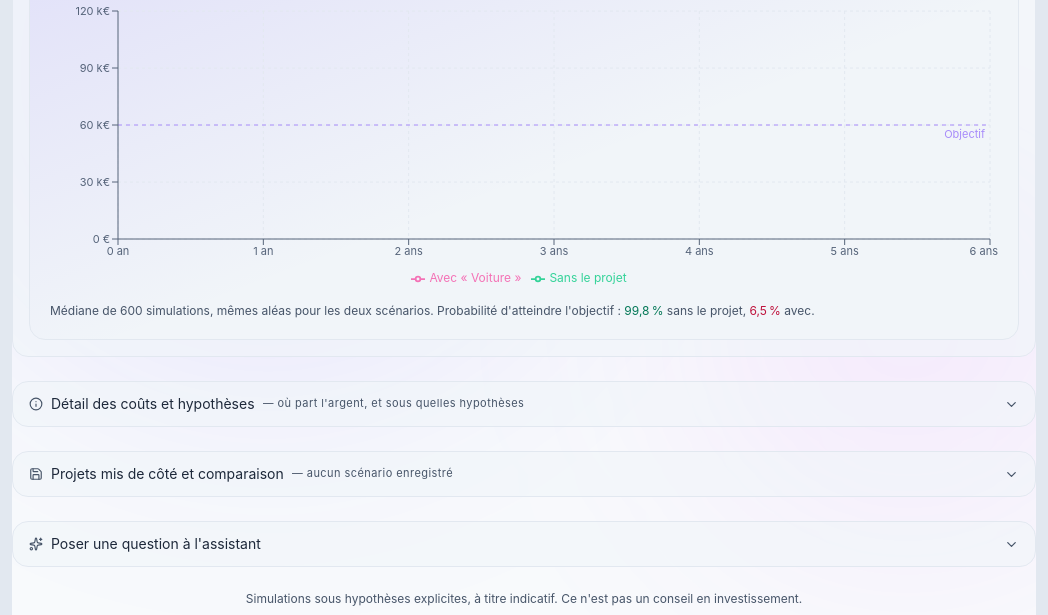
Scenario: Projet › ventile le coût de possession poste par poste
(page scrolled)
Click the button "Détail des coûts".
click(524, 404)  # box [13,382,1035,426]
(page scrolled)
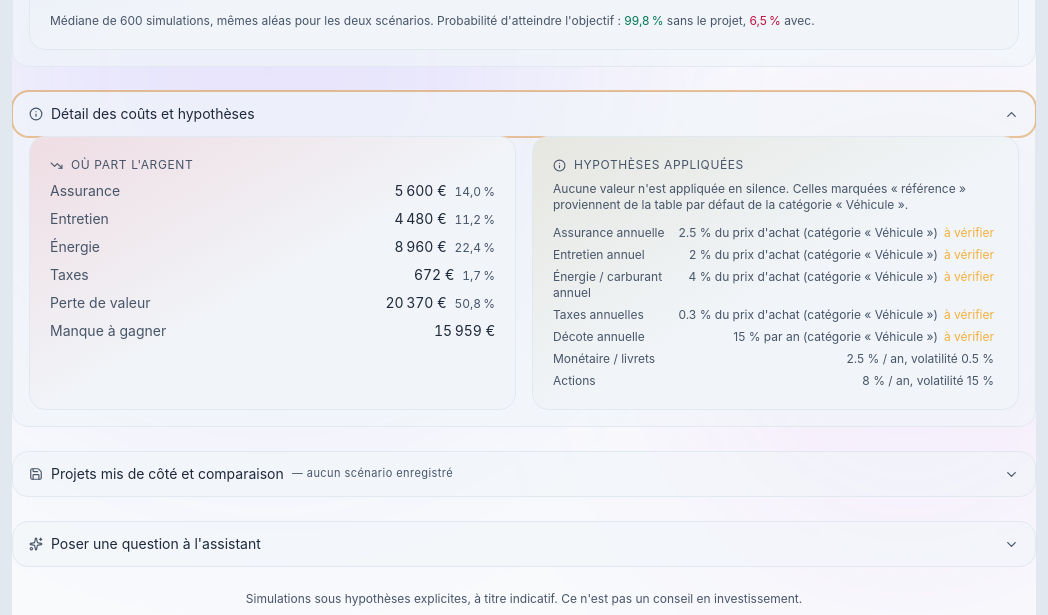
Check: the text "Perte de valeur" is shown, box [50,293,150,313]
Check: the text "Manque à gagner" is shown, box [50,321,166,341]
